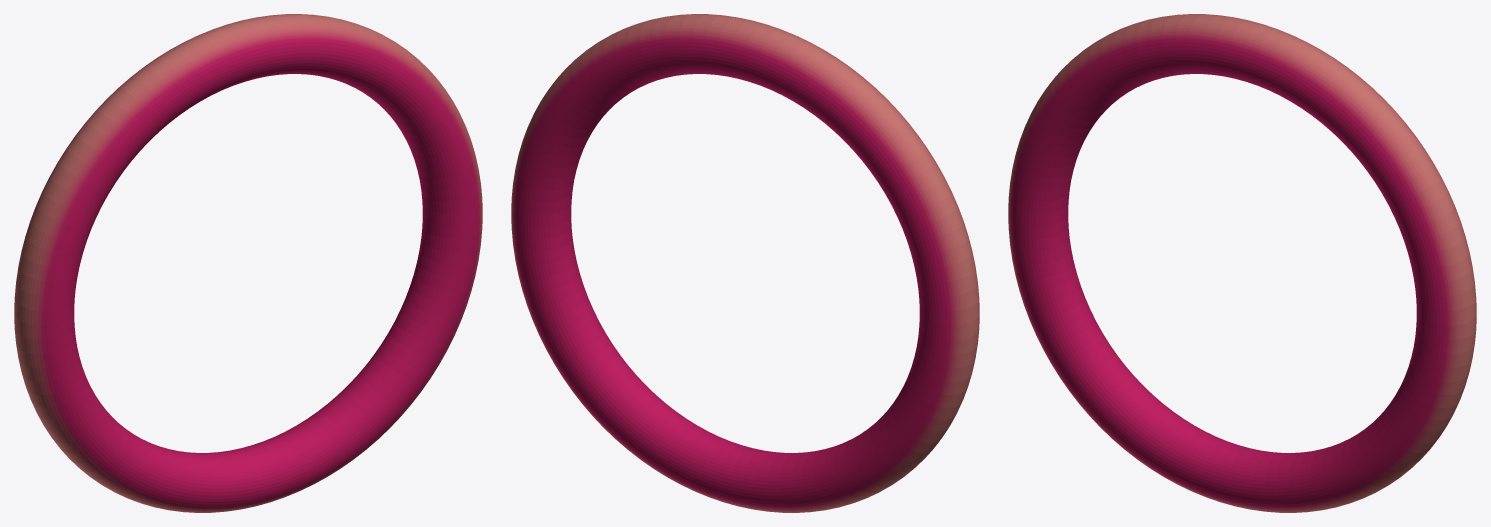
The picture shows the model from 3 angles, left to right: view 1: azimuth 30°, elevation 25°; view 2: azimuth 150°, elevation 25°; view 3: azimuth 330°, elevation 25°; orthographic projection.
Parts seen in each view (by area): view 1: world; view 2: world; view 3: world.
Boxes of the visible parts, left/top/right/bottom form: world: left=14, top=14, right=482, bottom=512; world: left=511, top=14, right=979, bottom=512; world: left=1008, top=14, right=1476, bottom=512.
Size of the model in its own units: 24.8 by 24.8 by 2.79.
